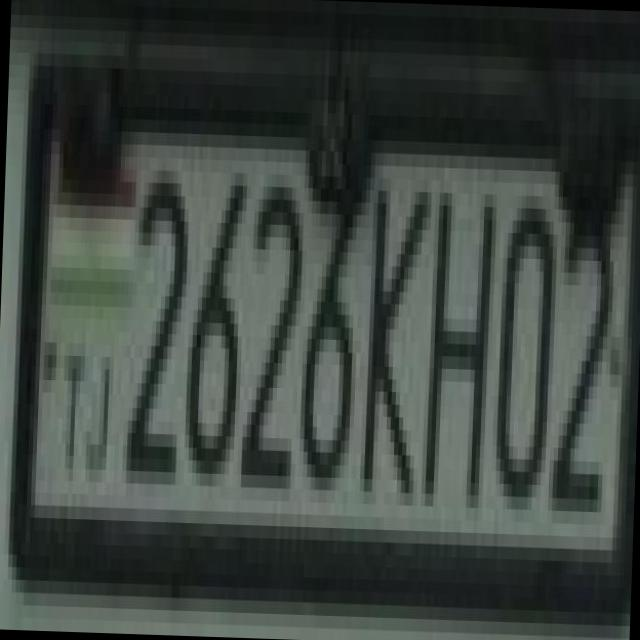0: (482, 170, 555, 498)
2: (112, 143, 186, 484), (237, 148, 310, 476)
6: (281, 149, 371, 491), (180, 146, 248, 474)
H: (412, 154, 498, 495)
K: (347, 152, 432, 493)
Z: (532, 171, 624, 500)
